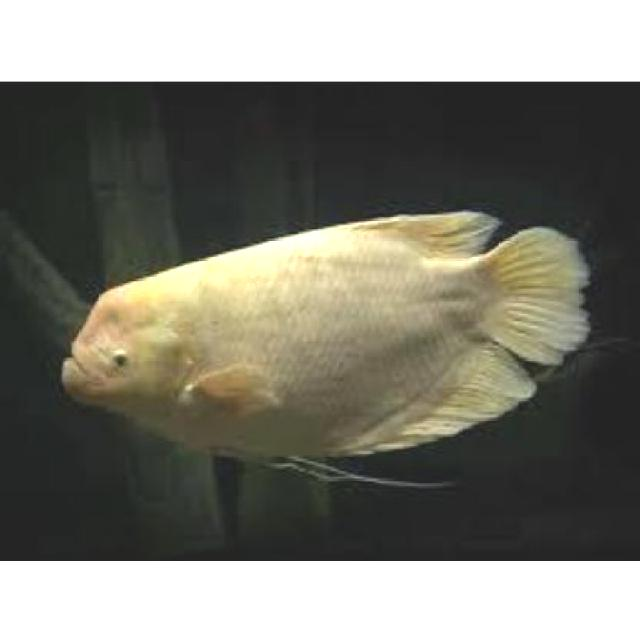gurame: (61, 208, 588, 470)
